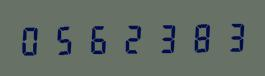eight: (182, 19, 214, 54)
five: (50, 21, 82, 56)
six: (83, 20, 115, 56)
three: (149, 19, 181, 55), (215, 18, 247, 53)
two: (116, 20, 148, 55)
zero: (17, 22, 49, 57)
